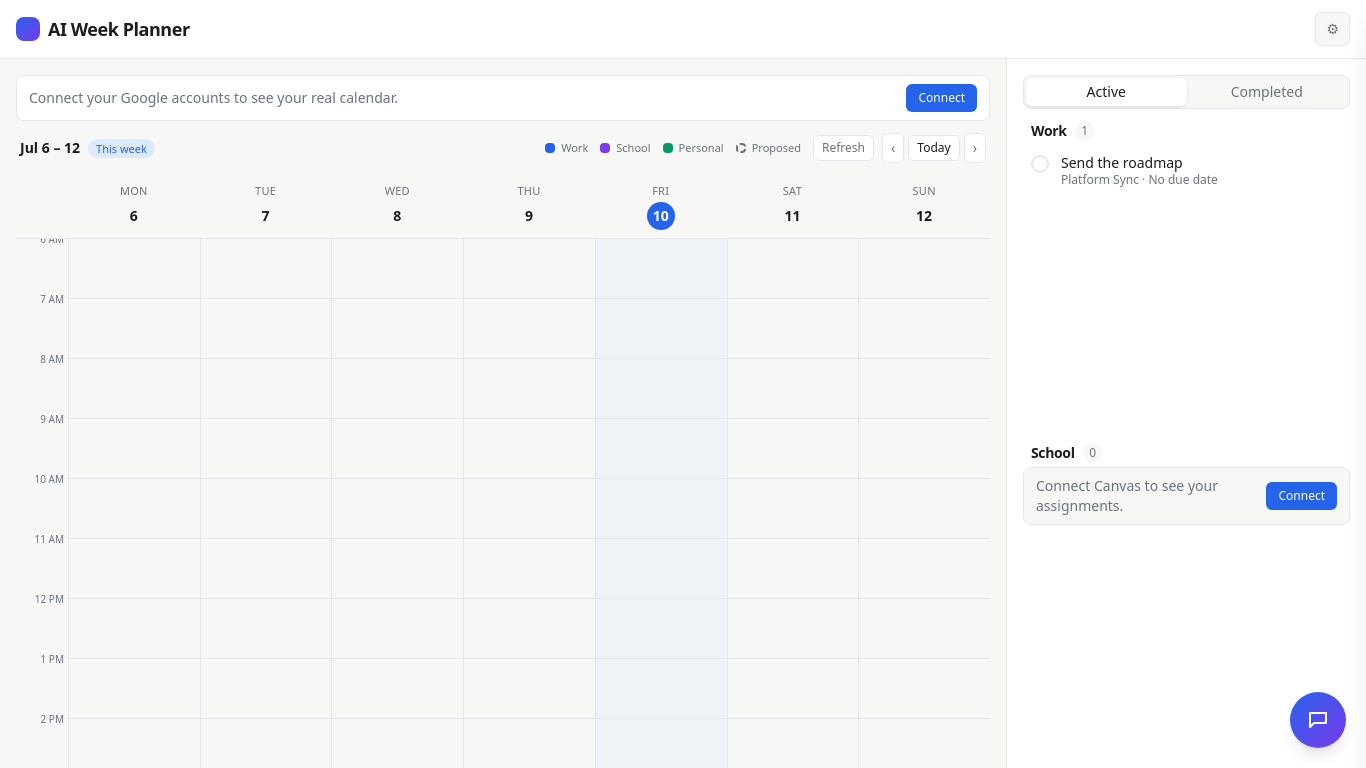
DashboardShell — clear to Completed archive › clearing a Work item removes it from Active and shows it under Completed
This screenshot has width=1366, height=768.
Check: the button "Send the roadmap" is shown, box [1061,153,1342,172]
Step 1. Click the checkbox named "Send the roadmap" → x=1040, y=164, box [1031,155,1049,173]
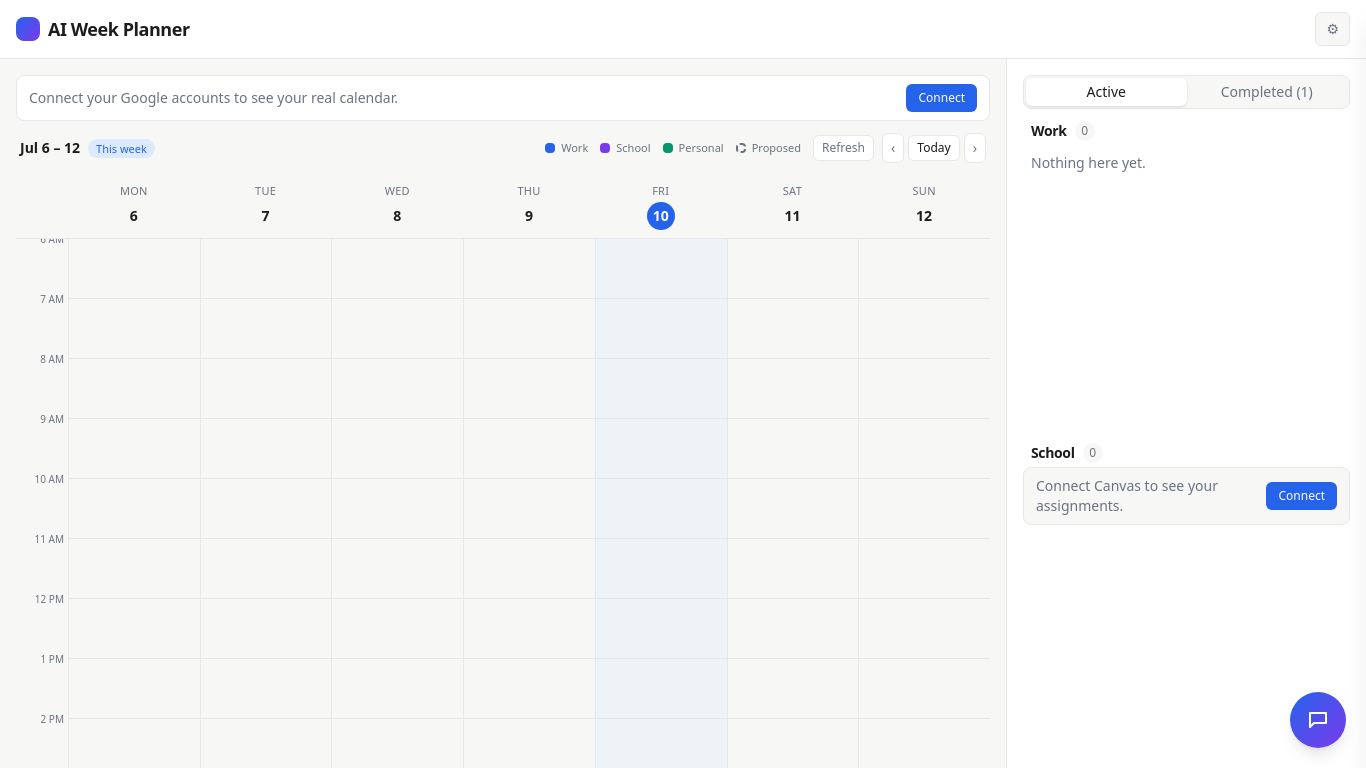
Check: the button "Send the roadmap" is gone
# Appears under the Completed tab.
Step 2. Click the tab "Completed (1)" → x=1267, y=92, box [1186,78,1347,106]
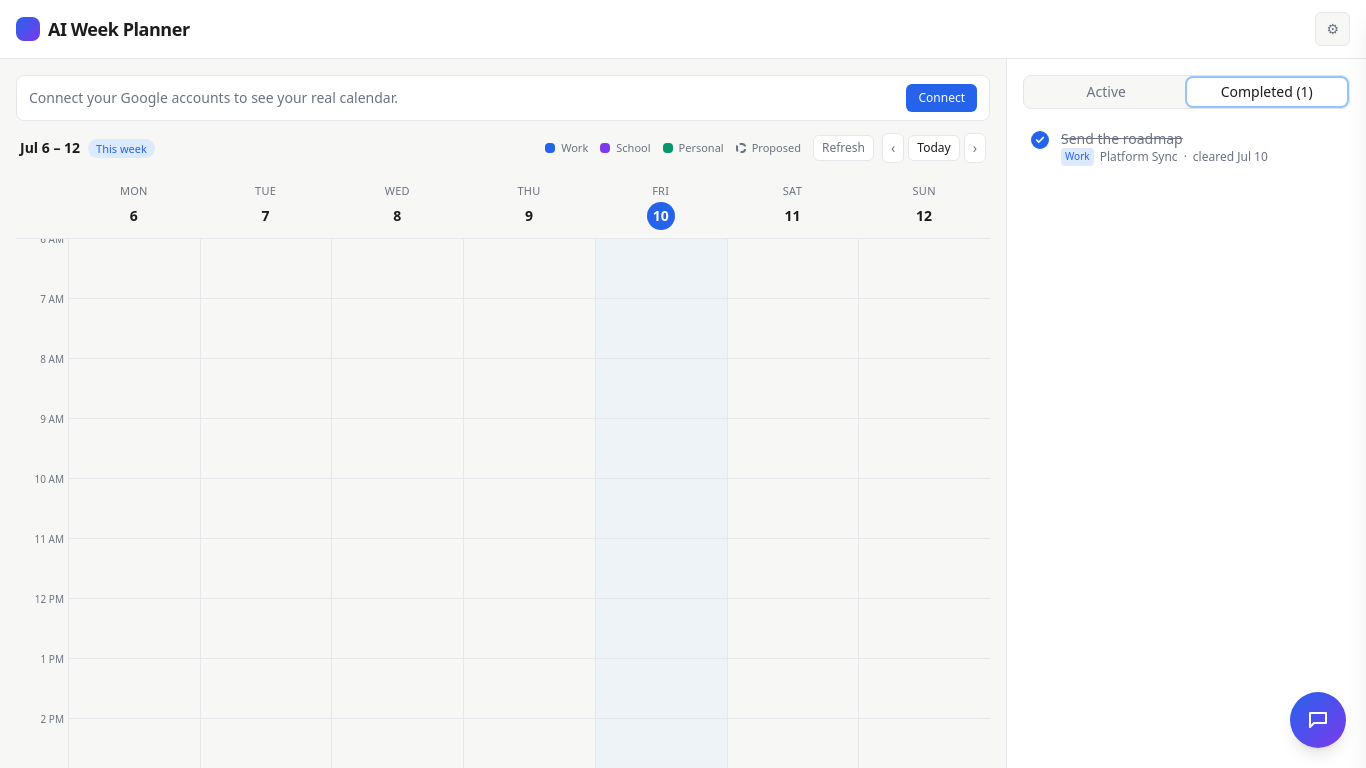
Check: the text "Send the roadmap" is shown, box [1061,129,1183,148]
